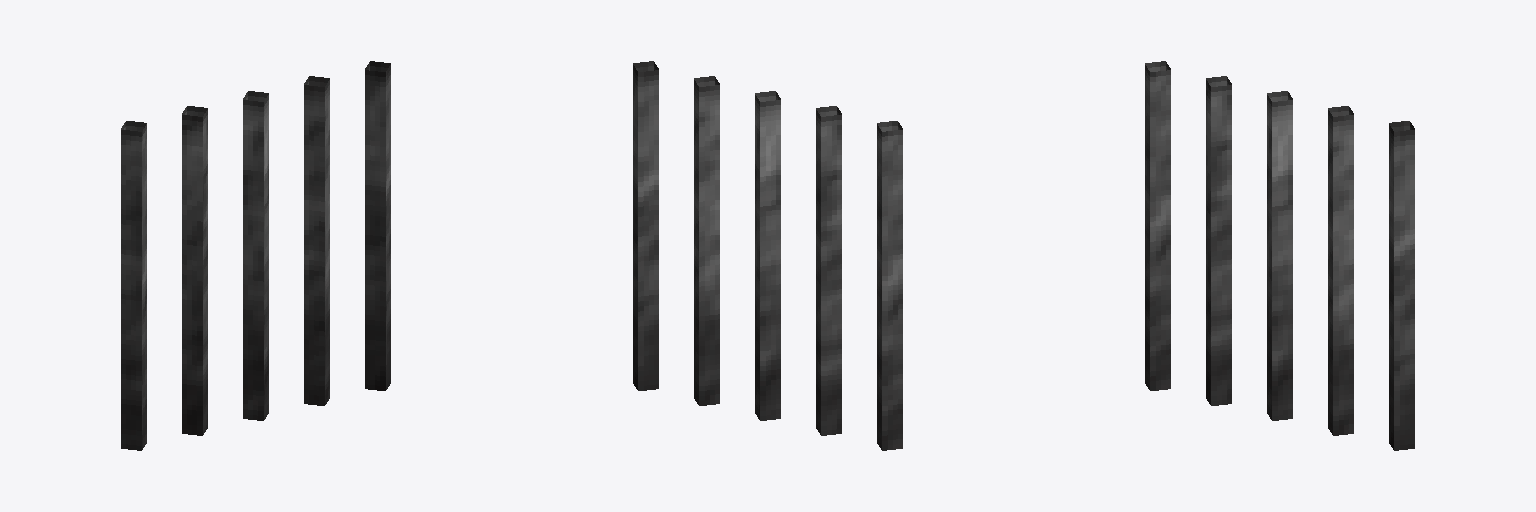
The picture shows the model from 3 angles: view 1: azimuth 30°, elevation 25°; view 2: azimuth 150°, elevation 25°; view 3: azimuth 330°, elevation 25°; orthographic projection.
Size of the model in its own units: 0.8884 by 1 by 0.0884.
1 materials, 1 textured.